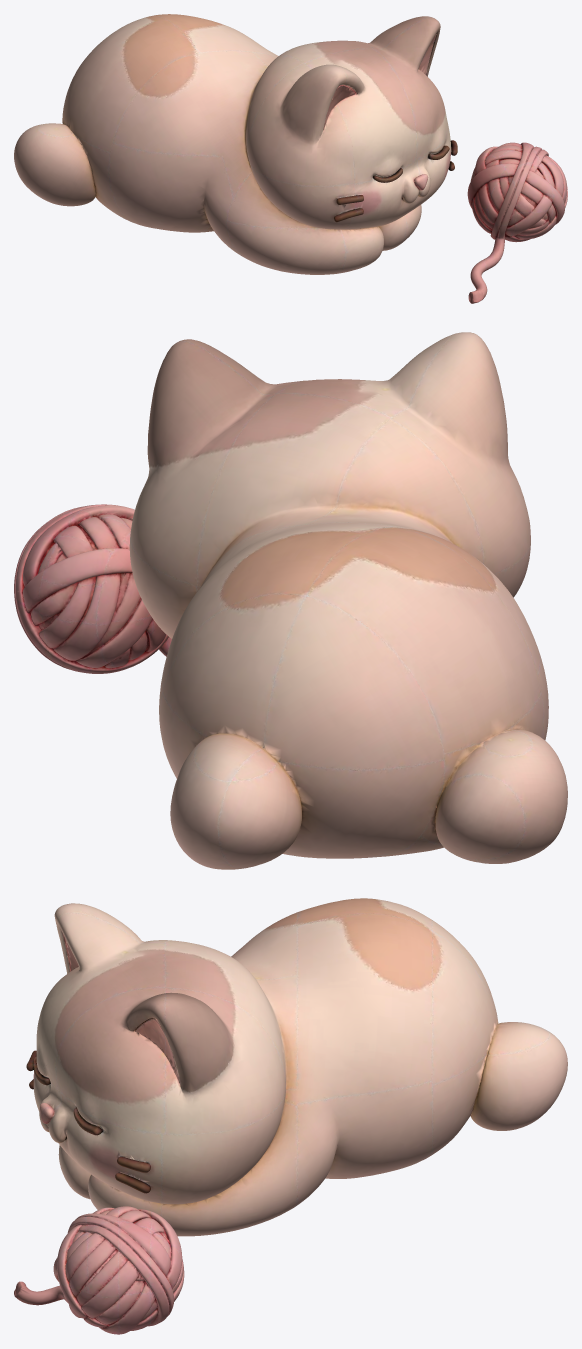
Rendered from model-mobile-v002.glb.
3 views of the same model, one above another, from view 1: azimuth 30°, elevation 25°; view 2: azimuth 150°, elevation 25°; view 3: azimuth 270°, elevation 25° (orthographic). The views are drawn at different scales.
Parts seen in each view (by area): view 1: tmpxuz9bbkeobj; view 2: tmpxuz9bbkeobj; view 3: tmpxuz9bbkeobj.
Part boxes in pixels (bbox=[...]): tmpxuz9bbkeobj: bbox=[14, 14, 567, 303]; tmpxuz9bbkeobj: bbox=[14, 332, 567, 869]; tmpxuz9bbkeobj: bbox=[14, 898, 567, 1334].
Size of the model in its own units: 0.9998 by 0.5547 by 0.8771.
Materials: 2 (2 with a texture image).
